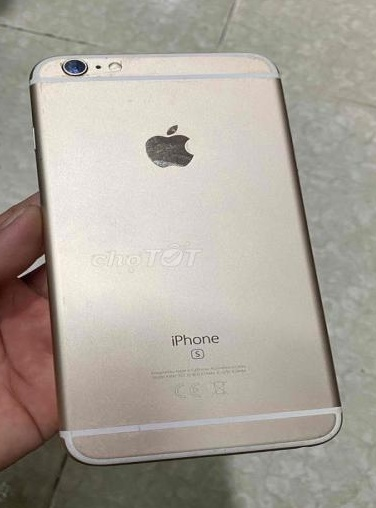scratch: (36, 49, 147, 94)
